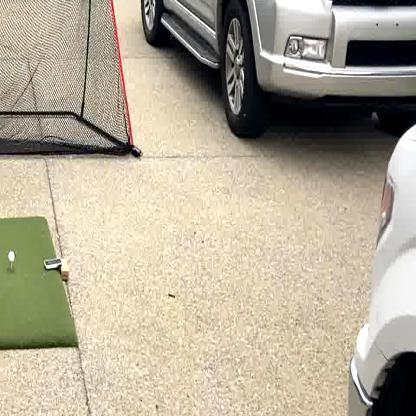ClubHead: (7, 249, 16, 264)
